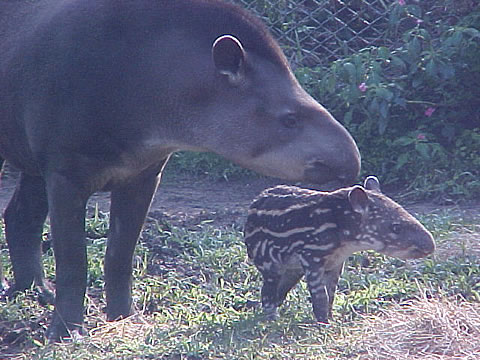Anta: (4, 2, 364, 333), (240, 174, 441, 325)
